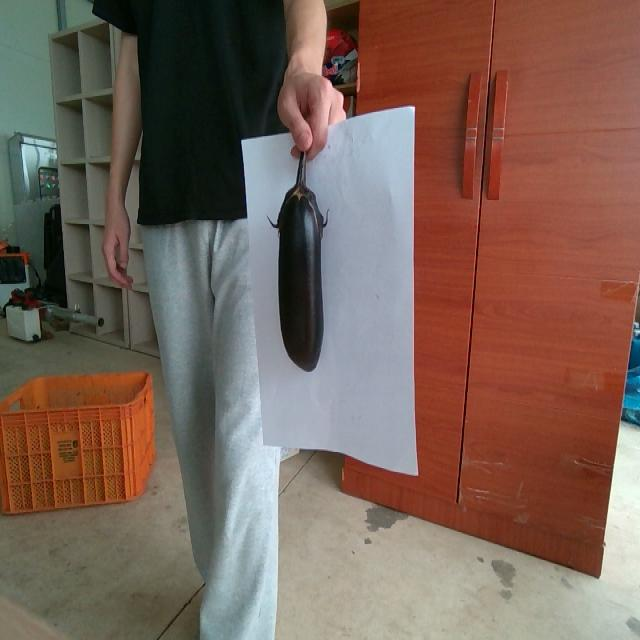Egg plant: (269, 152, 328, 369)
